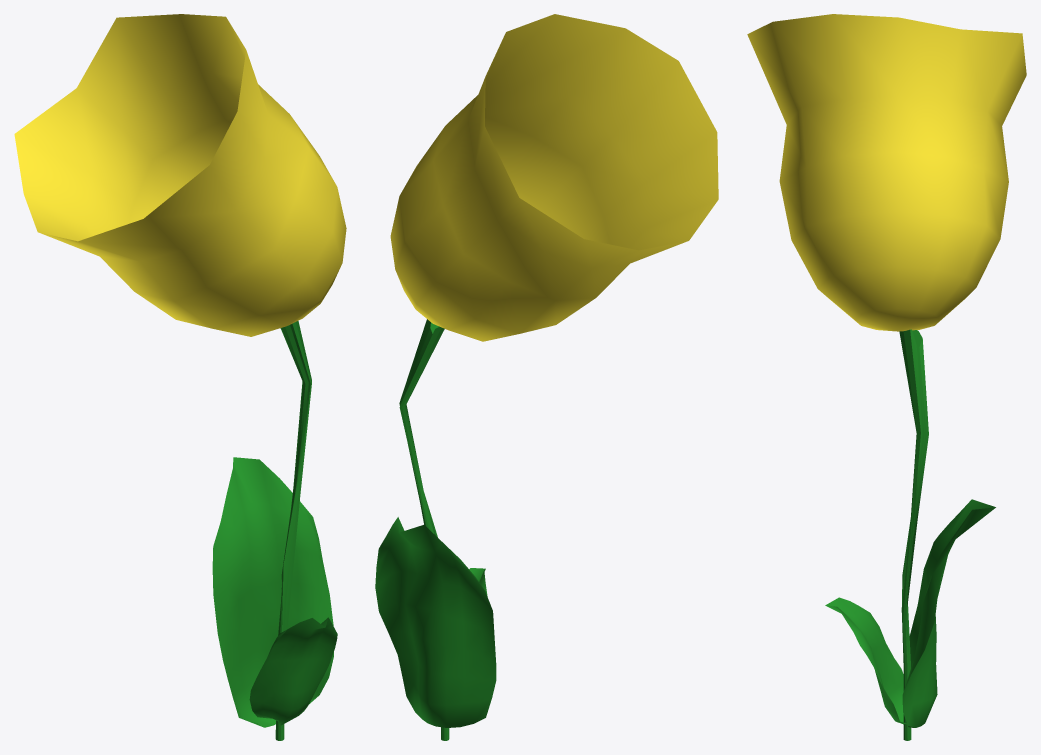
Rendered from mortartulip.fbx.
3 views of the same model, side by side, from view 1: azimuth 30°, elevation 25°; view 2: azimuth 150°, elevation 25°; view 3: azimuth 270°, elevation 25° (orthographic). The views are drawn at different scales.
Parts seen in each view (by area): view 1: Sphere, Tulip; view 2: Sphere, Tulip; view 3: Sphere, Tulip.
Part boxes in pixels (x1,y1,x2,y2): Sphere: [14, 14, 346, 336]; Tulip: [212, 321, 337, 740]; Sphere: [390, 14, 718, 341]; Tulip: [375, 319, 496, 740]; Sphere: [747, 14, 1026, 331]; Tulip: [825, 329, 995, 740].
Size of the model in its own units: 299 by 690 by 252.
